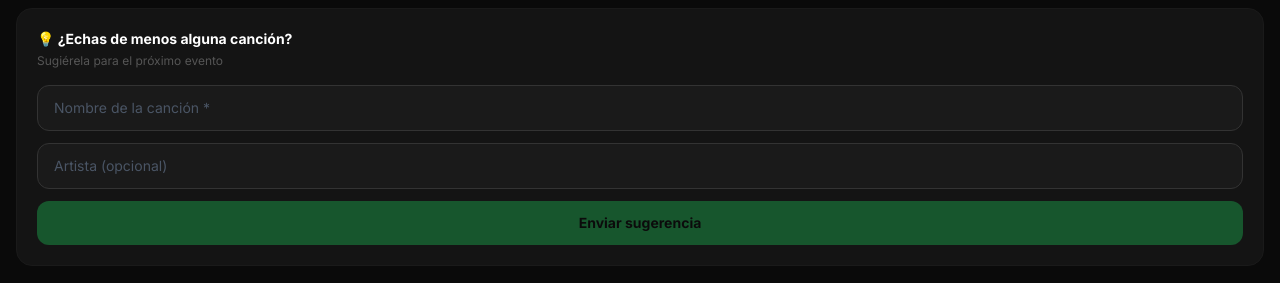
Test: SuggestionBox › enables submit button when title is filled
The image size is (1280, 283).
Type "Bohemian Rhapsody" into the field with placeholder "Nombre de la canción *" at (640, 108), box [37,85,1243,131]
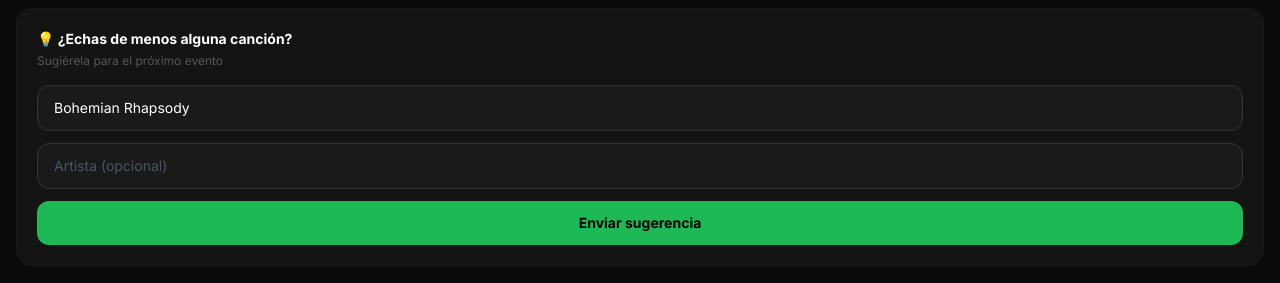
Now the button "Enviar sugerencia" is enabled, box [37,201,1243,245]
